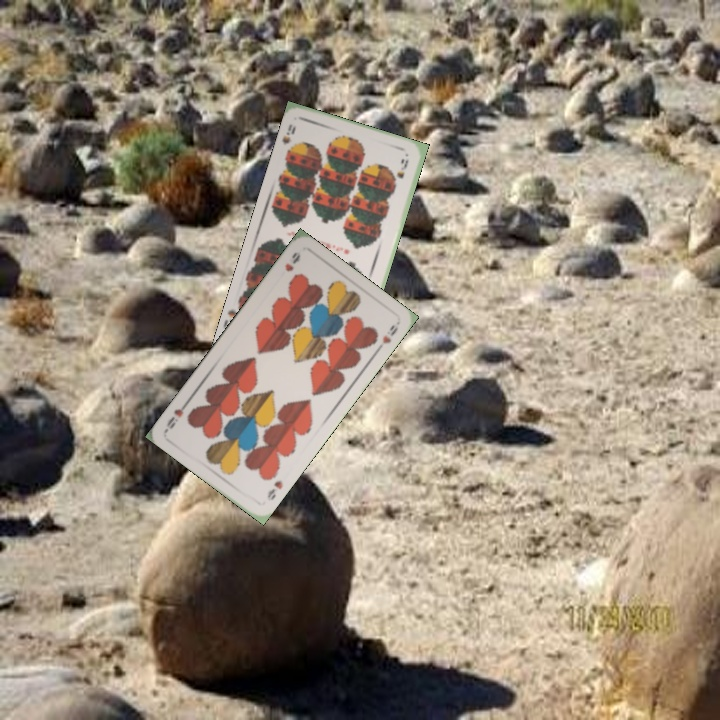H9: (263, 476, 285, 503), (281, 248, 303, 274)
S9: (278, 120, 298, 158)
